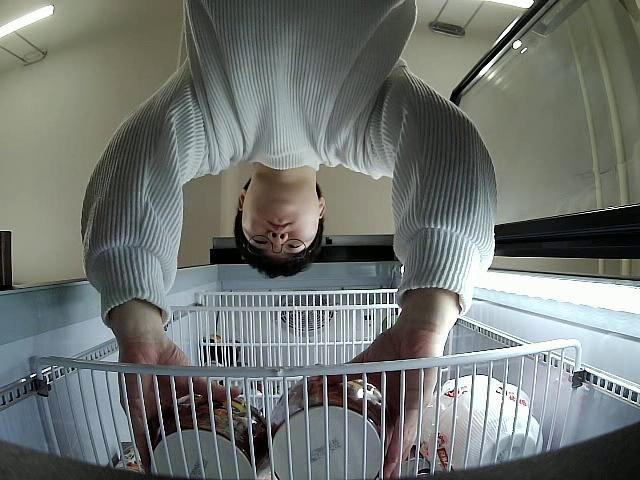05_nuguri_L: (273, 369, 399, 480), (148, 384, 271, 480)
